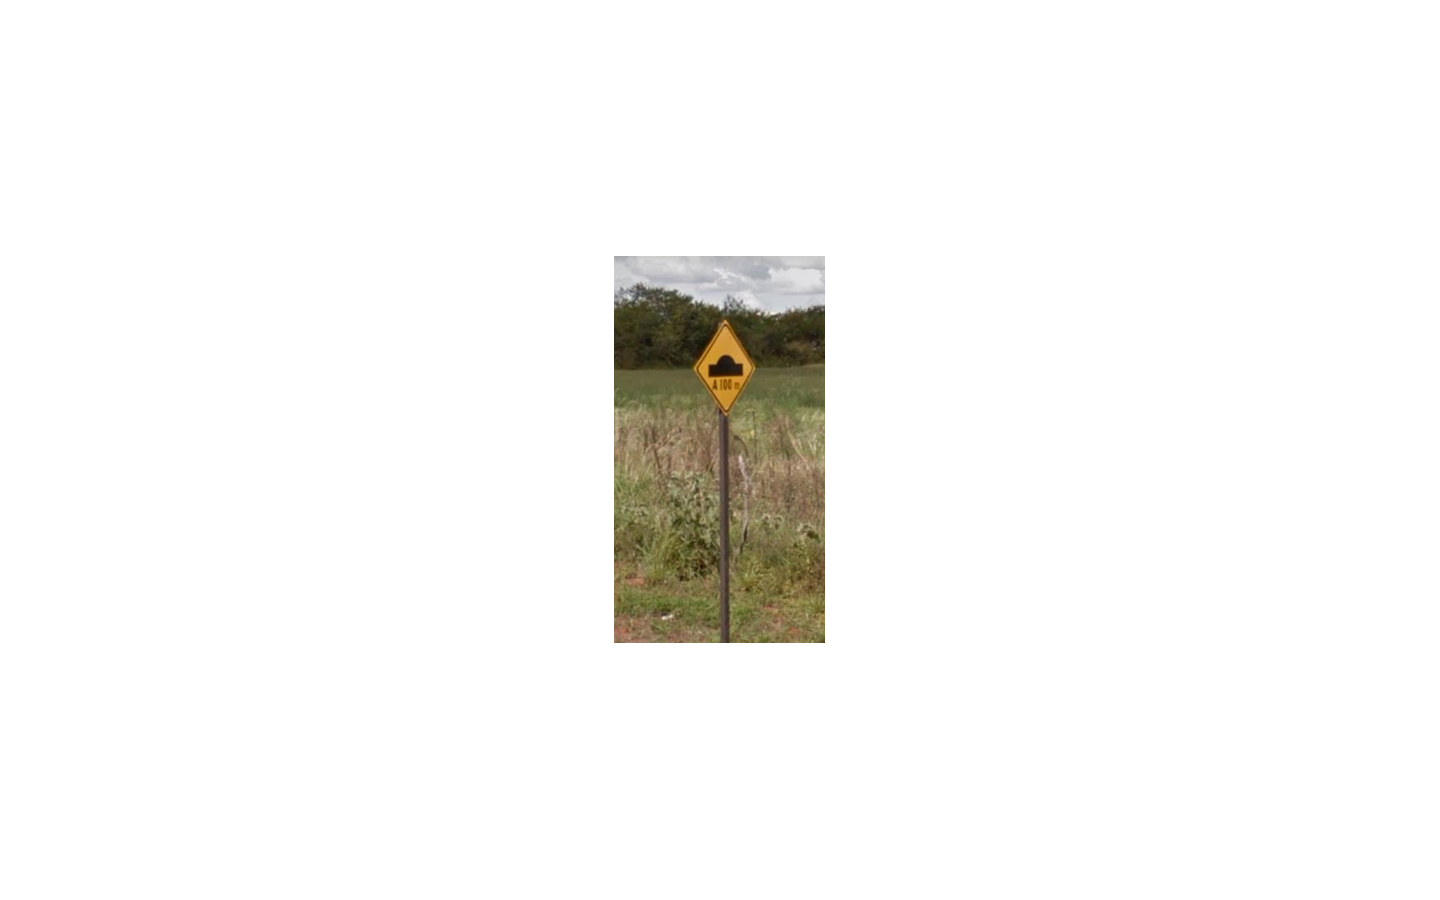l100m: (691, 319, 756, 416)
